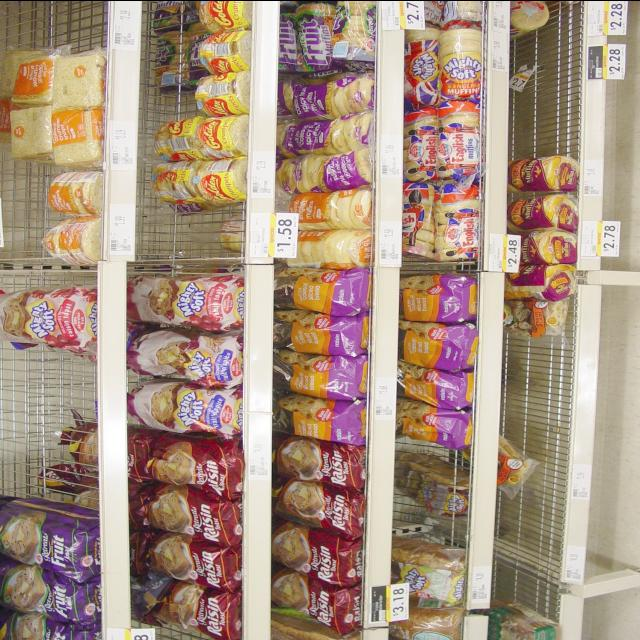empty_space: (513, 345, 575, 595), (7, 367, 85, 489), (525, 34, 574, 138), (403, 456, 457, 540), (143, 215, 235, 253), (17, 0, 103, 32)
